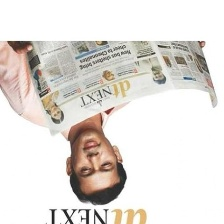news_paper: (18, 39, 221, 140)
